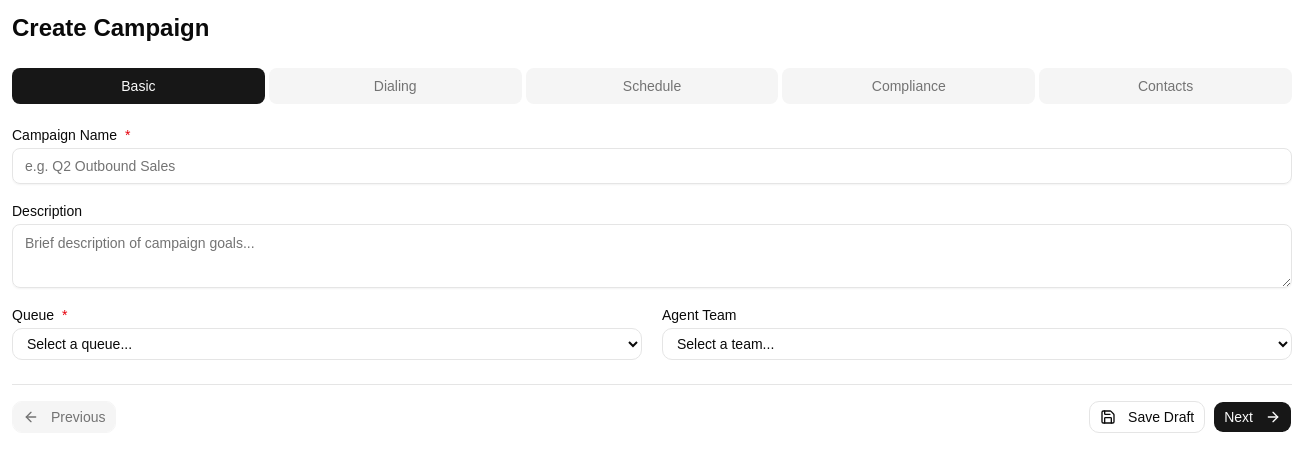
Test case: CampaignWizard without a queue › CampaignWizard_ShouldStayOnTheBasicStep_WhenTheDraftIsSavedWithoutAQueue
Type "Q4 renewals" into the field labelled "Campaign Name *" at x=652, y=166, box [12,148,1292,184]
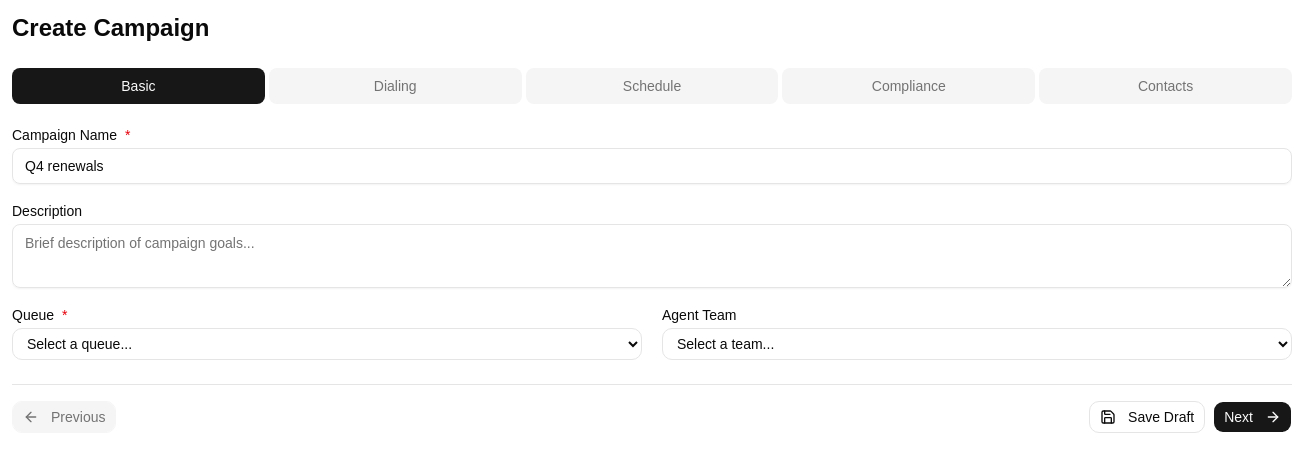
Select "Outbound" in the dropdown labelled "Agent Team" at x=977, y=344, box [662,328,1292,360]
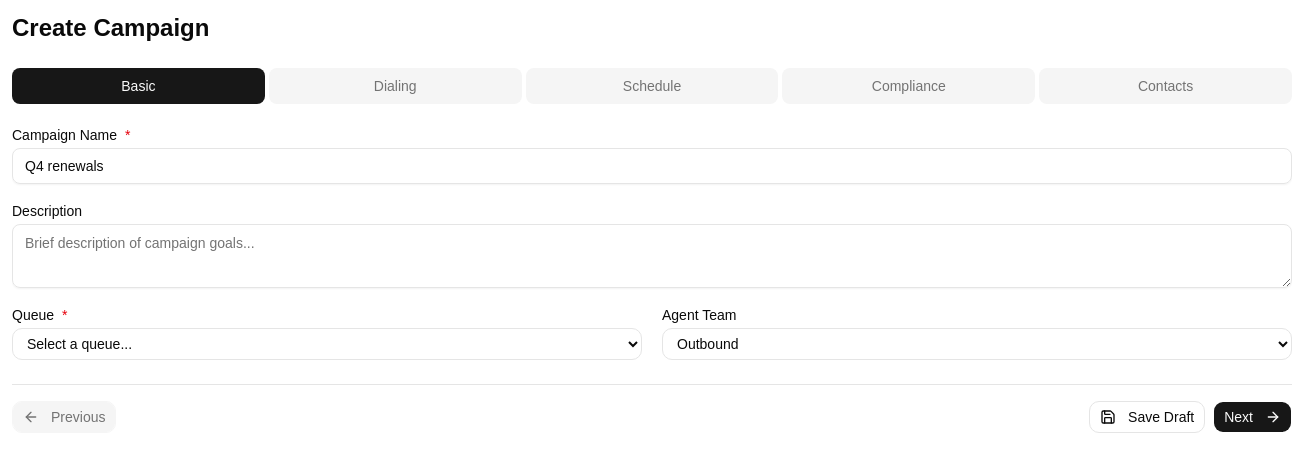
Click the button "Save Draft" at x=1147, y=417, box [1089,401,1205,433]
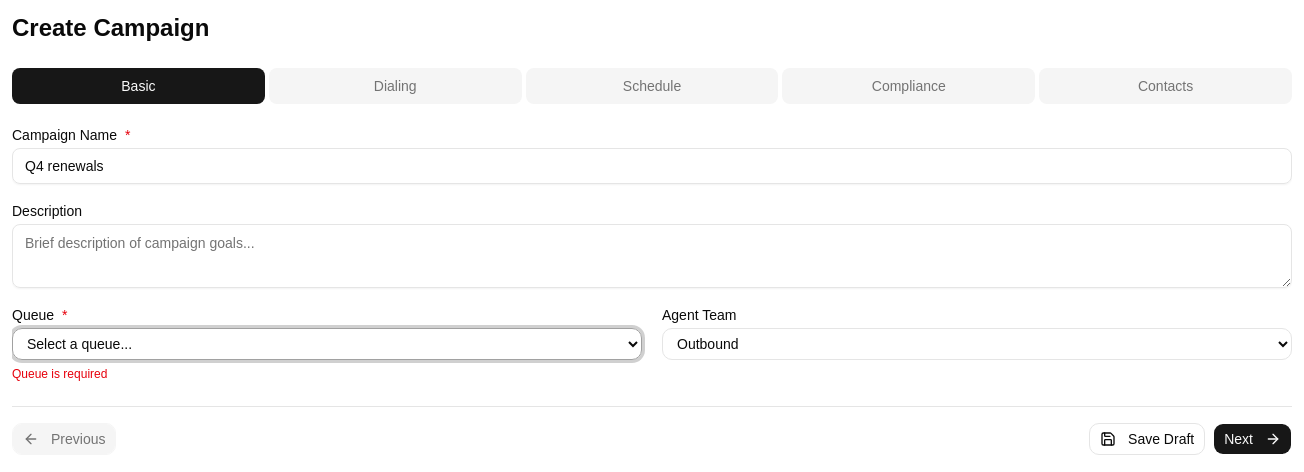
Expected: the message with test id "campaign-wizard-queue-error" reads "Queue is required", [12,367,107,381]
